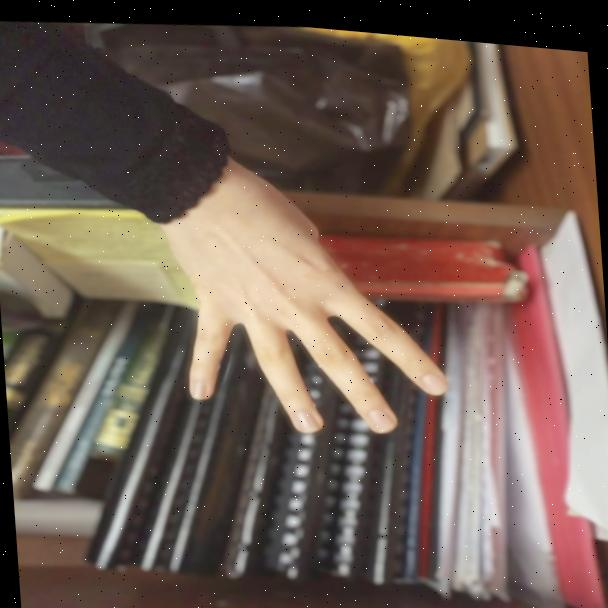four: (118, 102, 470, 468)
